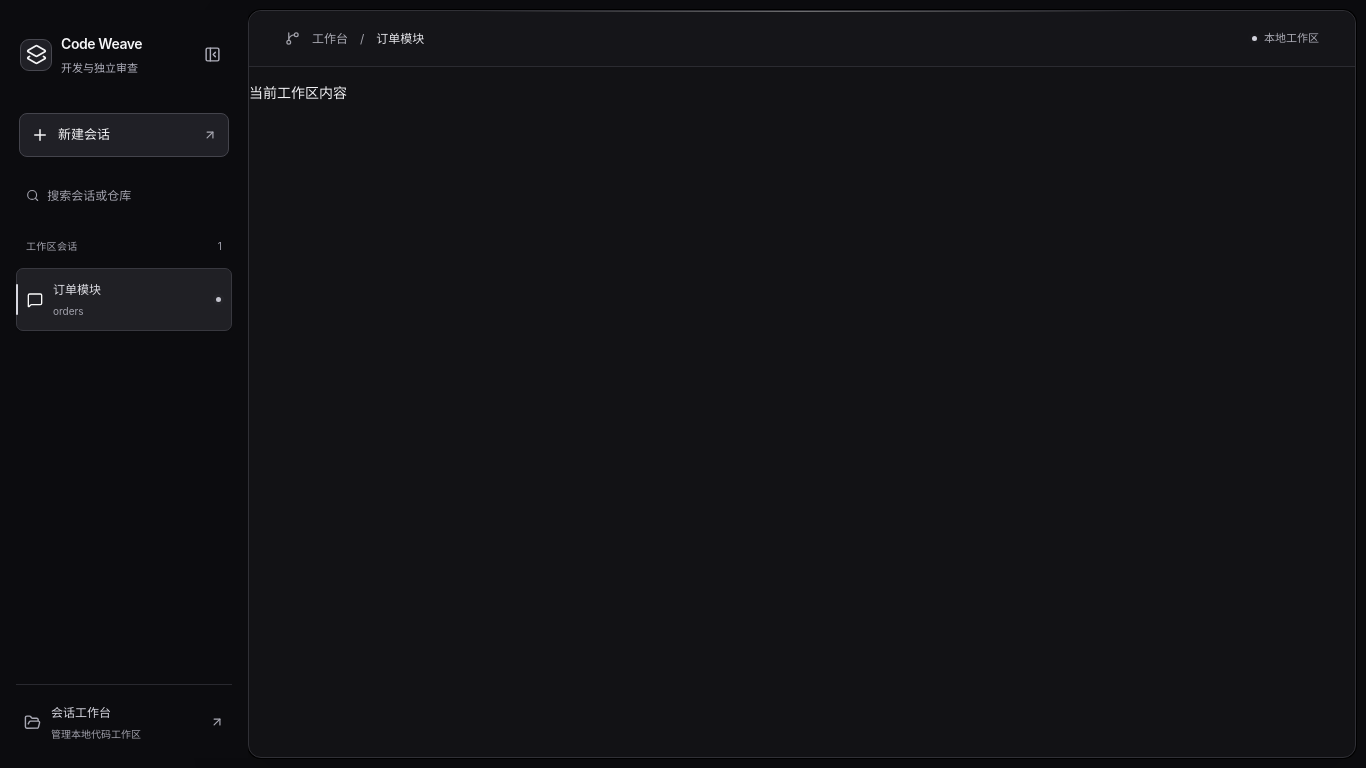
Test: WorkspaceShell › filters history by repository or title without changing server state
Check: the link "订单模块 orders" is shown, box [16,268,232,332]
Type "billing" into the field labelled "搜索会话" at (135, 196), box [47,175,222,217]
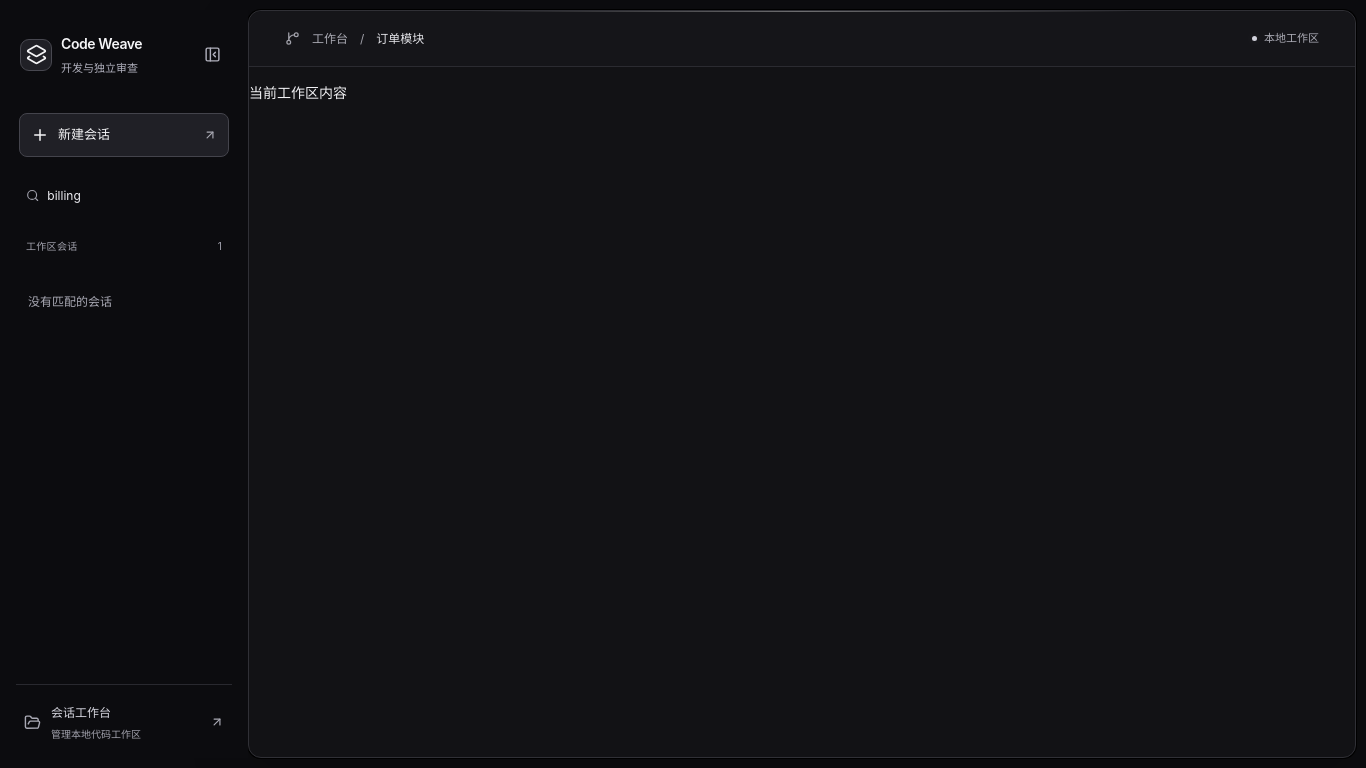
Check: the text "没有匹配的会话" is shown, box [28,294,112,309]
Replace the text in the field named "搜索会话" with "orders" at (135, 196), box [47,175,222,217]
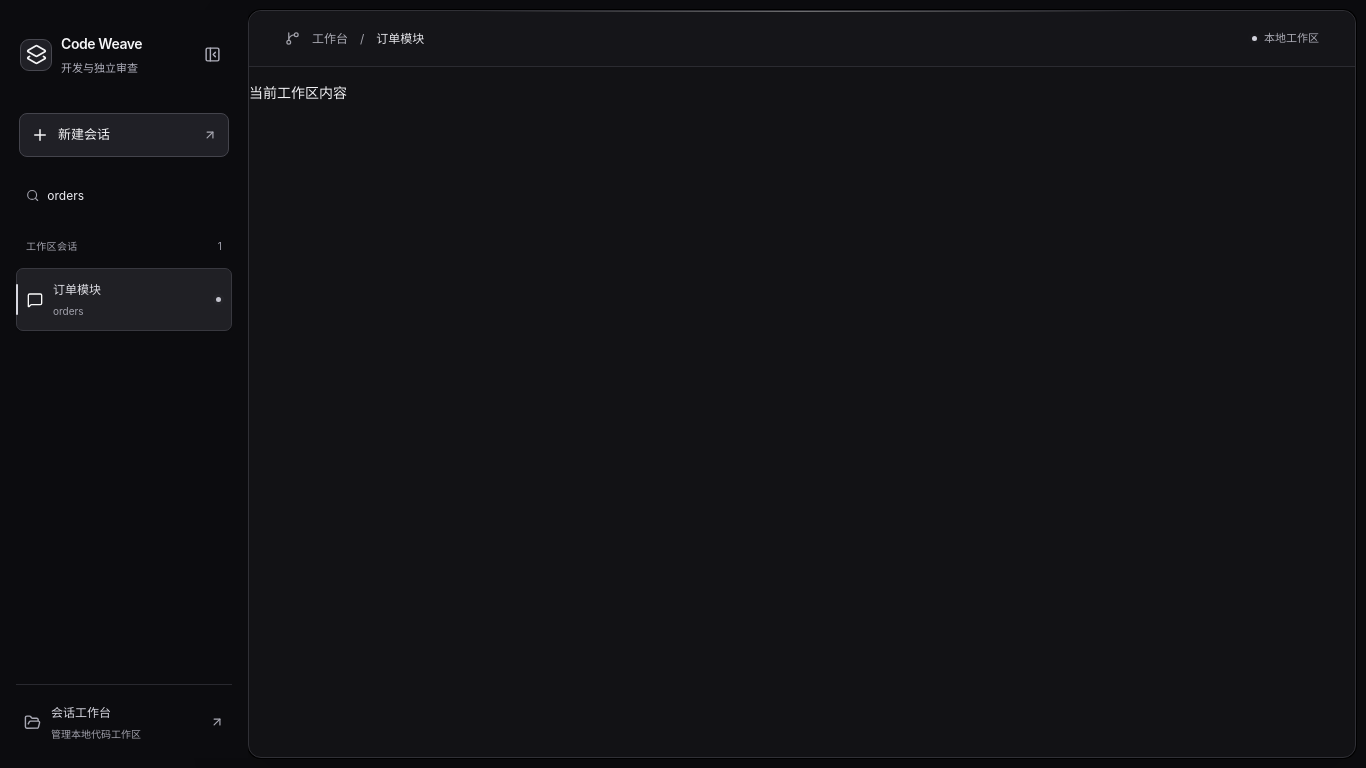
Check: the link "订单模块 orders" is shown, box [16,268,232,332]
